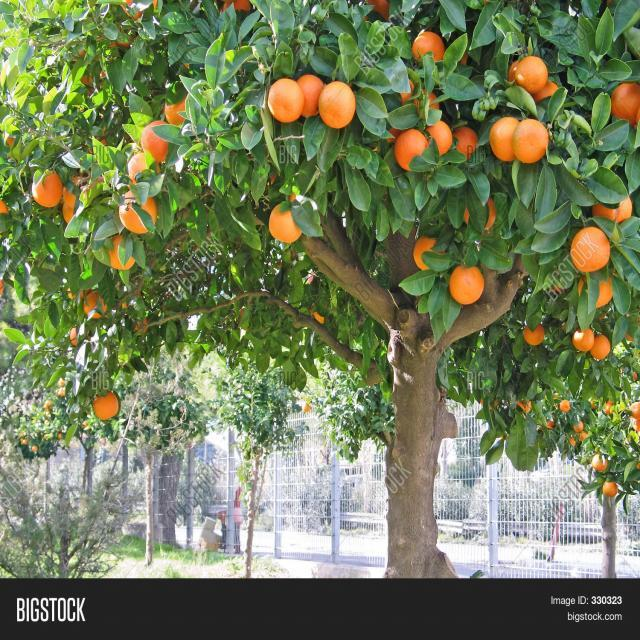Jeruk Sudah Matang: (317, 78, 357, 131), (263, 77, 305, 125), (266, 202, 306, 247), (119, 188, 158, 234), (511, 119, 550, 164), (488, 114, 520, 166), (393, 128, 431, 171), (446, 262, 484, 305), (297, 71, 327, 120), (140, 117, 173, 161), (32, 167, 63, 210), (410, 30, 446, 66), (516, 54, 548, 94), (412, 236, 448, 271), (410, 31, 446, 65), (105, 234, 138, 270), (424, 118, 452, 156), (92, 390, 120, 418), (82, 290, 110, 318), (62, 177, 86, 208), (522, 322, 546, 347), (572, 326, 594, 352), (590, 334, 612, 360), (69, 327, 85, 347)
